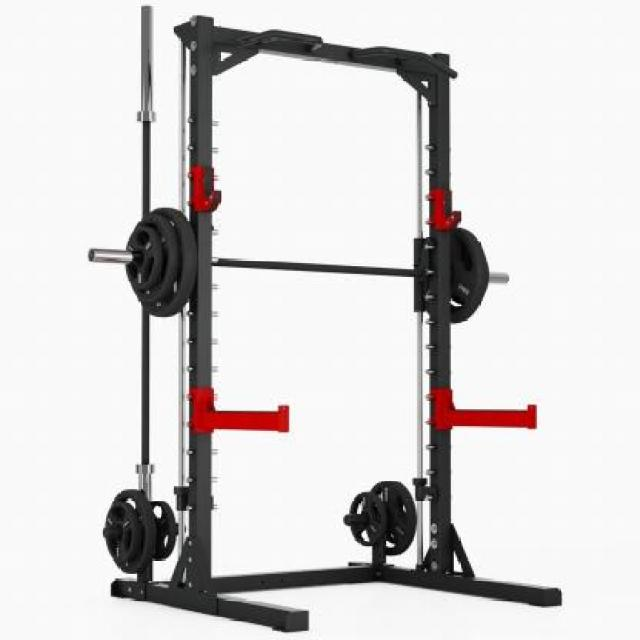smith machine: (89, 5, 562, 632)
